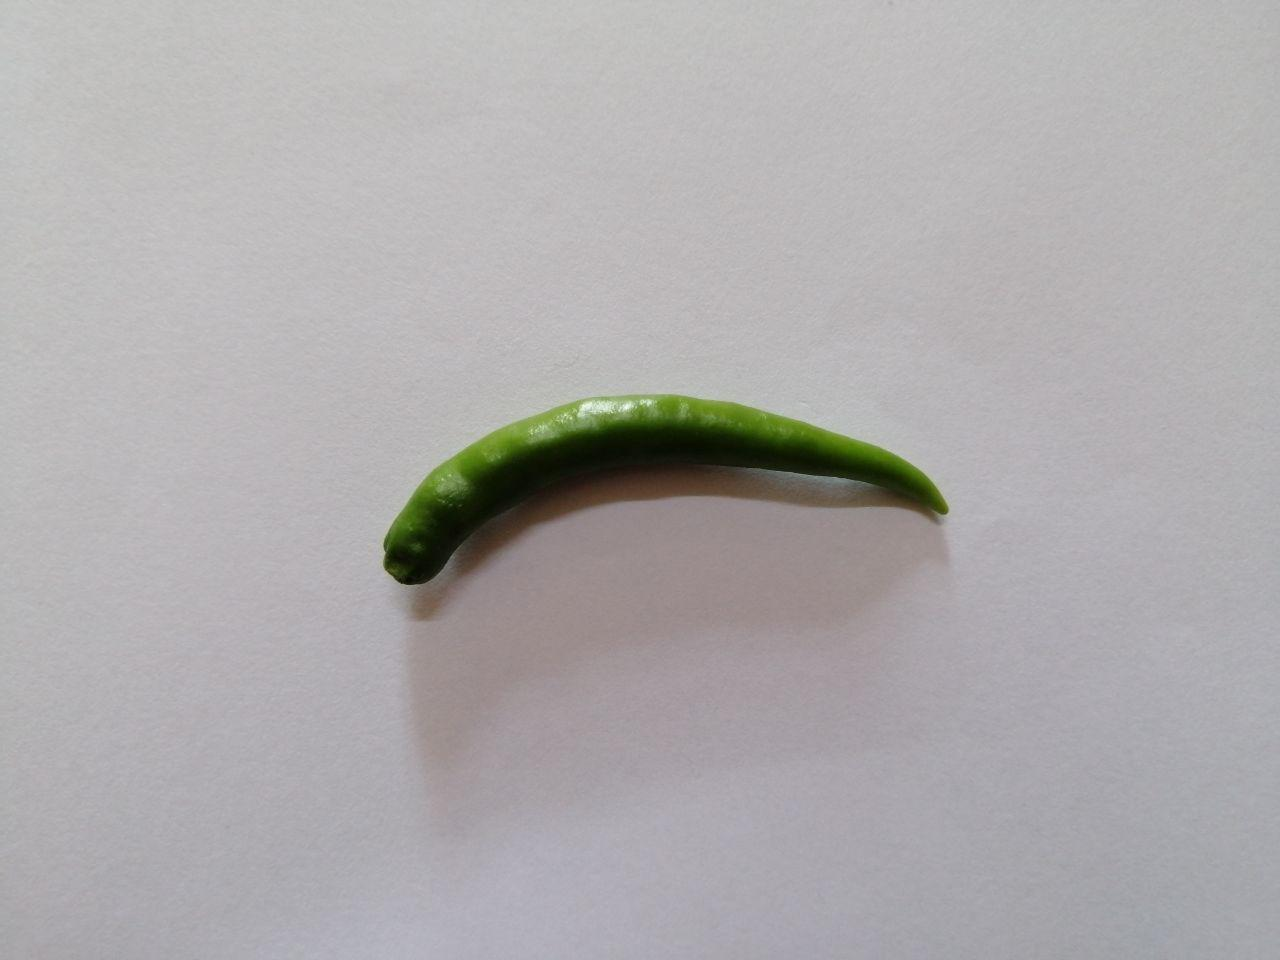lada hijau: (360, 383, 977, 603)
